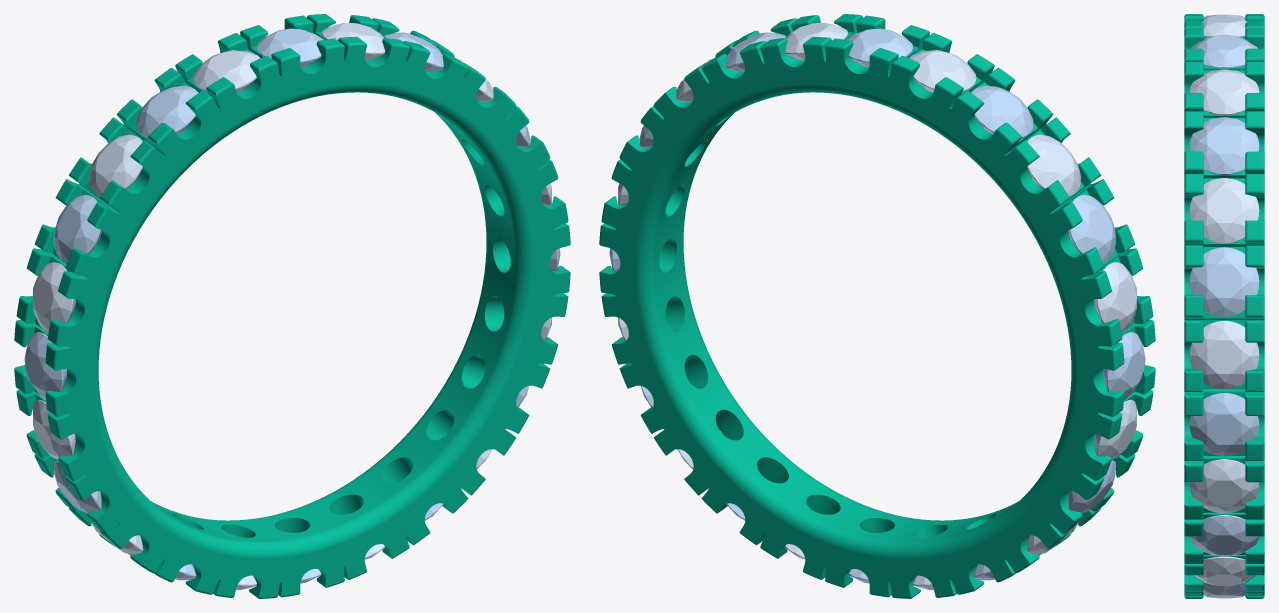
The picture shows the model from 3 angles, left to right: view 1: azimuth 30°, elevation 25°; view 2: azimuth 150°, elevation 25°; view 3: azimuth 270°, elevation 25°; orthographic projection. The views are drawn at different scales.
Visible parts, largest first — view 1: VR-80 2(front).3dm, Diamond_Round (×11); view 2: VR-80 2(front).3dm, Diamond_Round (×11); view 3: Diamond_Round (×12), VR-80 2(front).3dm.
Boxes of the visible parts, x1,y1,x2,y2 form: VR-80 2(front).3dm: (14, 14, 570, 598); Diamond_Round (×11): (24, 22, 443, 512); VR-80 2(front).3dm: (599, 14, 1155, 598); Diamond_Round (×11): (726, 22, 1145, 512); Diamond_Round (×12): (1189, 16, 1259, 598); VR-80 2(front).3dm: (1184, 14, 1264, 598).
Bounding box in the file's own units: 2.82 × 2.82 × 0.3863.
